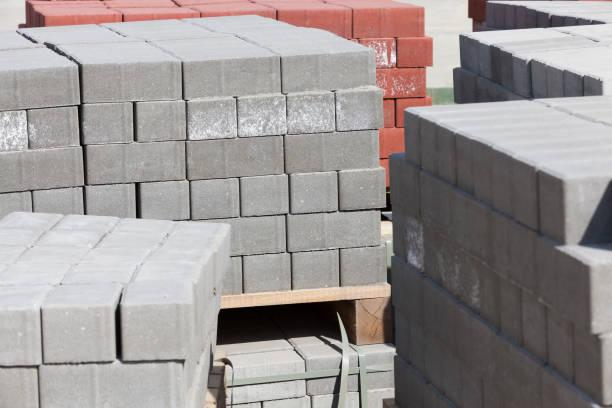Bricks: (469, 120, 611, 206), (431, 107, 578, 186), (417, 102, 561, 179), (453, 116, 594, 193), (493, 129, 611, 215), (399, 99, 543, 164), (511, 143, 611, 231), (538, 159, 611, 247), (41, 370, 183, 408), (558, 250, 612, 325), (42, 310, 111, 364), (121, 305, 192, 357), (286, 134, 377, 171), (183, 61, 283, 93), (191, 139, 284, 173), (87, 145, 188, 176), (84, 67, 180, 99), (0, 149, 80, 186), (285, 52, 370, 86), (0, 69, 78, 103), (293, 216, 380, 246), (291, 175, 345, 216), (0, 314, 41, 364), (231, 219, 287, 255), (577, 332, 612, 388), (243, 178, 291, 218), (304, 350, 392, 371), (192, 178, 241, 215), (355, 11, 429, 35), (333, 88, 382, 124), (185, 103, 240, 135), (135, 102, 181, 140), (295, 251, 341, 289), (342, 247, 389, 284), (80, 107, 131, 141), (55, 266, 137, 286), (126, 279, 184, 307), (31, 111, 77, 146), (143, 184, 187, 220), (244, 98, 289, 133), (227, 358, 304, 378), (85, 186, 134, 217), (48, 287, 113, 309), (131, 264, 197, 285), (290, 97, 335, 127), (551, 310, 574, 368), (289, 10, 352, 31), (247, 259, 292, 288), (77, 245, 149, 263), (345, 174, 384, 206), (526, 291, 545, 356), (228, 386, 304, 402), (139, 248, 206, 266), (2, 369, 32, 408), (213, 340, 290, 355), (0, 265, 63, 283), (23, 243, 88, 260), (379, 68, 425, 92), (502, 279, 521, 336), (313, 377, 393, 390), (1, 111, 29, 145), (31, 194, 81, 212), (0, 287, 40, 309), (403, 43, 433, 64), (0, 241, 30, 260), (372, 41, 395, 63), (0, 194, 29, 210)
